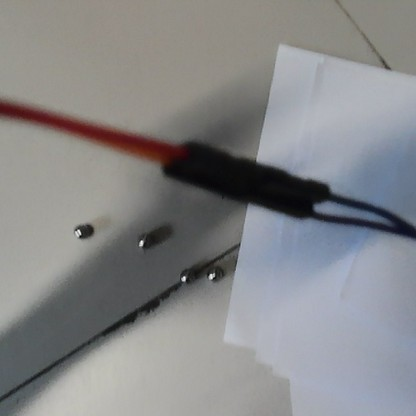ironball: (132, 229, 154, 250), (70, 220, 94, 239), (205, 264, 225, 286), (175, 264, 193, 288)
